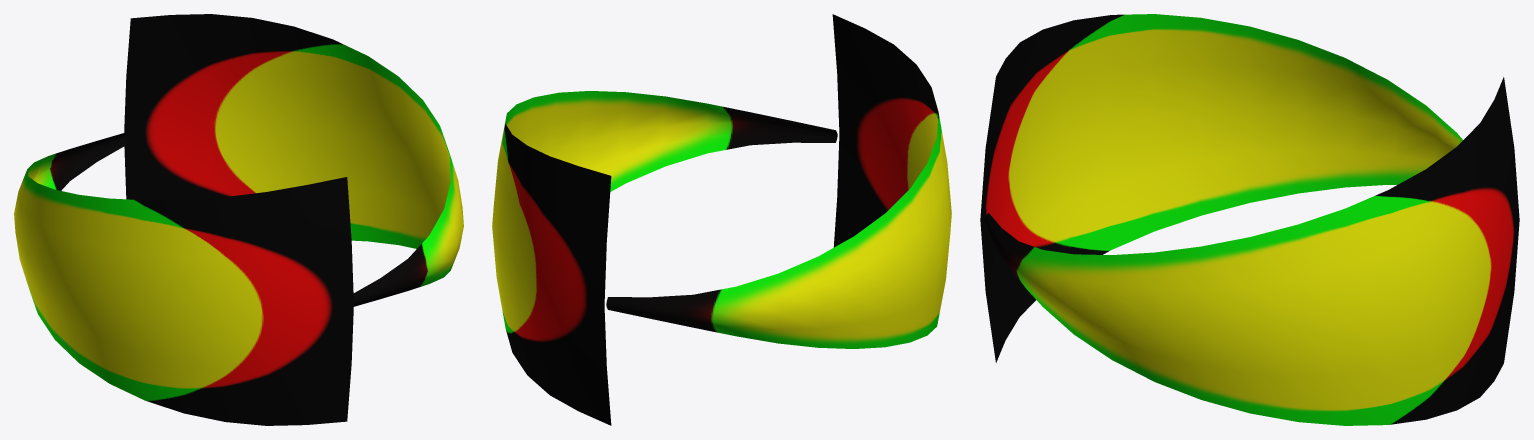
The model's file is SM_GhostBall_Ring_001.FBX.
3 views of the same model, side by side, from view 1: azimuth 30°, elevation 25°; view 2: azimuth 150°, elevation 25°; view 3: azimuth 270°, elevation 25° (orthographic). The views are drawn at different scales.
Parts seen in each view (by area): view 1: SM_GhostBall_Ring_001; view 2: SM_GhostBall_Ring_001; view 3: SM_GhostBall_Ring_001.
Boxes of the visible parts, <box> form: SM_GhostBall_Ring_001: <box>14,14,463,425</box>; SM_GhostBall_Ring_001: <box>492,14,951,425</box>; SM_GhostBall_Ring_001: <box>980,14,1519,425</box>.
Bounding box in the file's own units: 135 × 80.68 × 137.
1 material, 1 textured.
